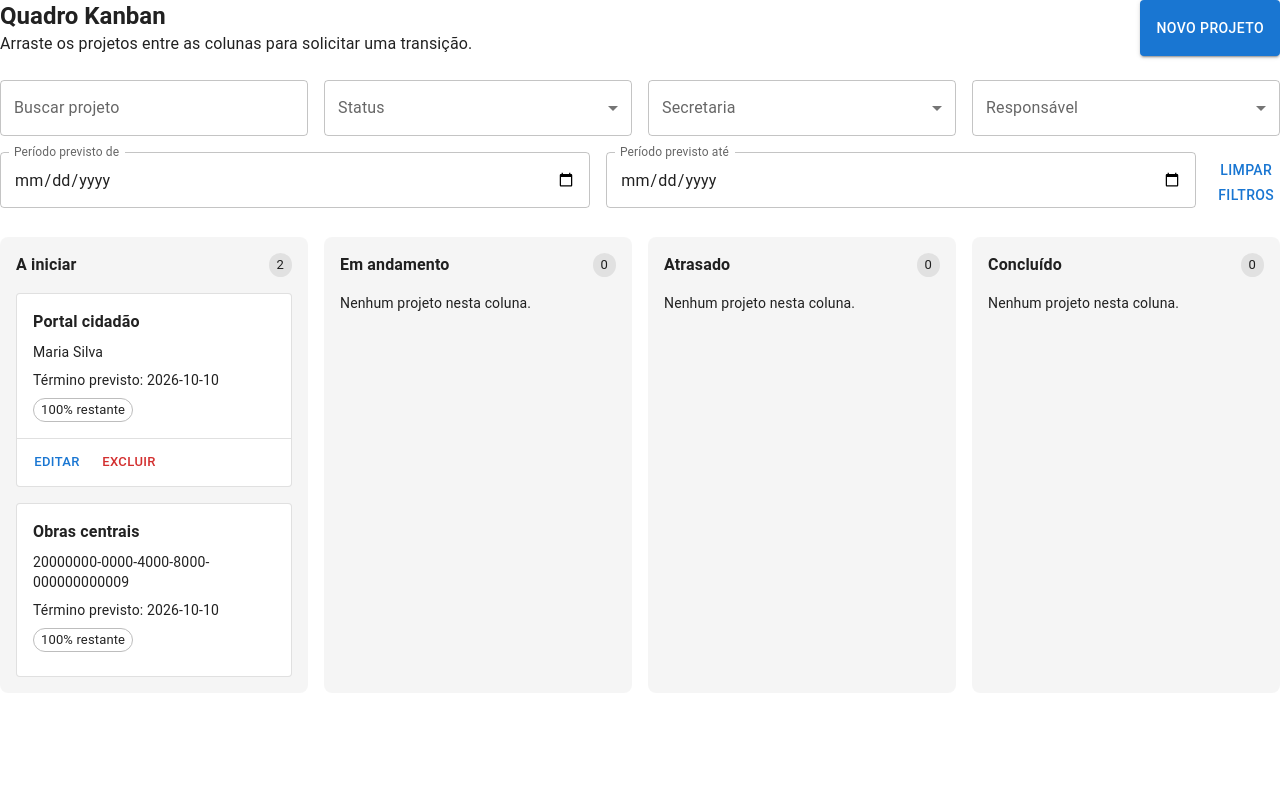
KanbanBoard › limits a responsible to their own projects
The image size is (1280, 800).
Expected: the button "Editar" is shown, [25,447,89,478]
Click the button "Novo projeto". click: (1210, 28)
box: [1140,0,1279,56]
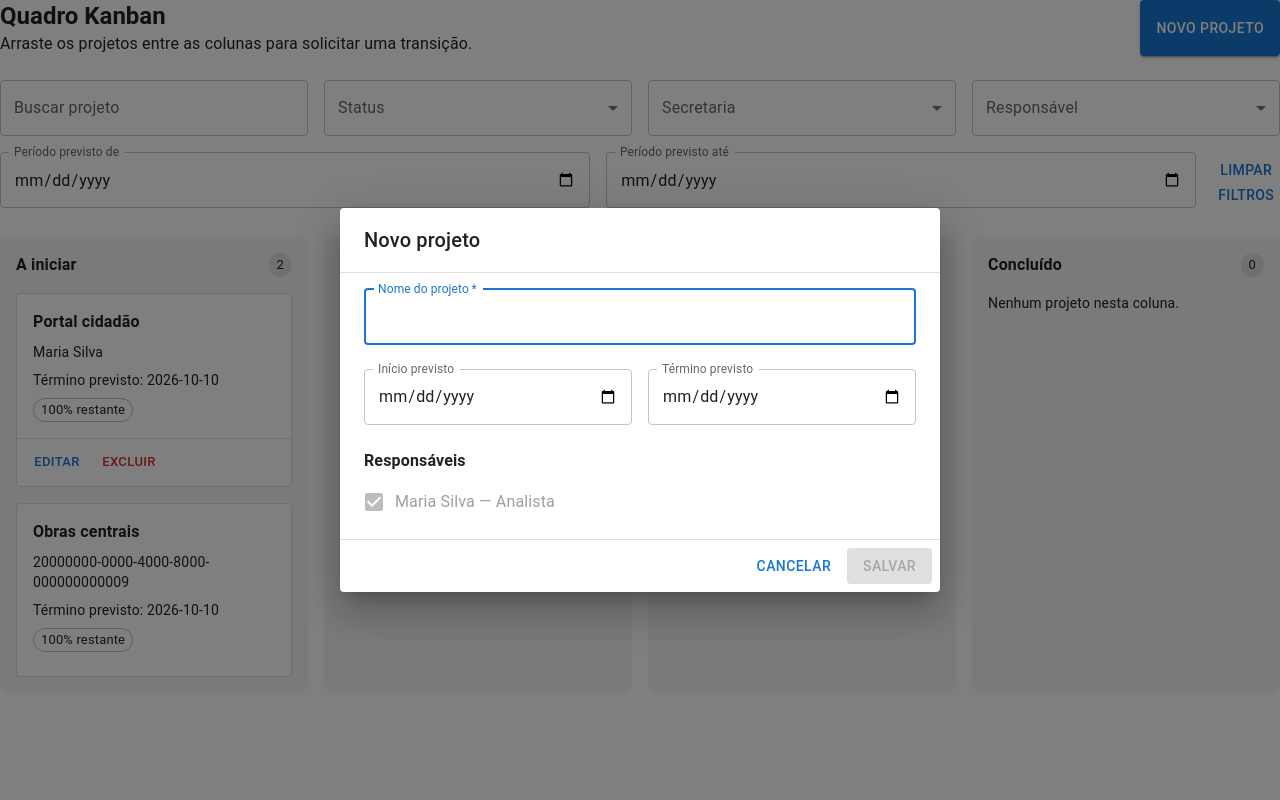
Expected: the checkbox labelled "Maria Silva — Analista" is checked, [362,490,555,514]
Expected: the checkbox labelled "Maria Silva — Analista" is disabled, [362,490,555,514]
